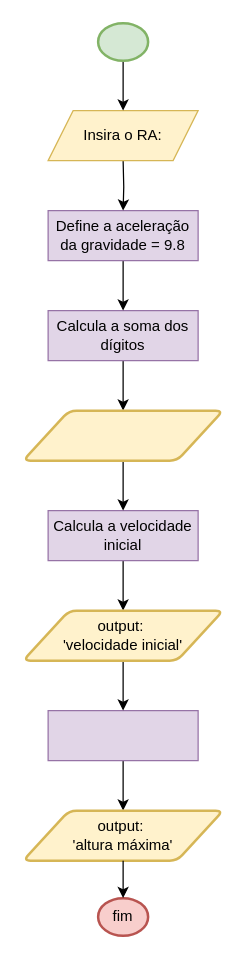
Some shapes in this 245 by 958 pixel diagram are drawn without their labels. The shapes that lost their labels are listed below. From the top down, each one's box as (x1, y1, x2, y2) in pixels, then its label:
(96, 21, 149, 61): Inicio
(21, 409, 224, 461): output: 'soma dos dígitos'
(47, 709, 198, 761): Calcula a altura máxima
